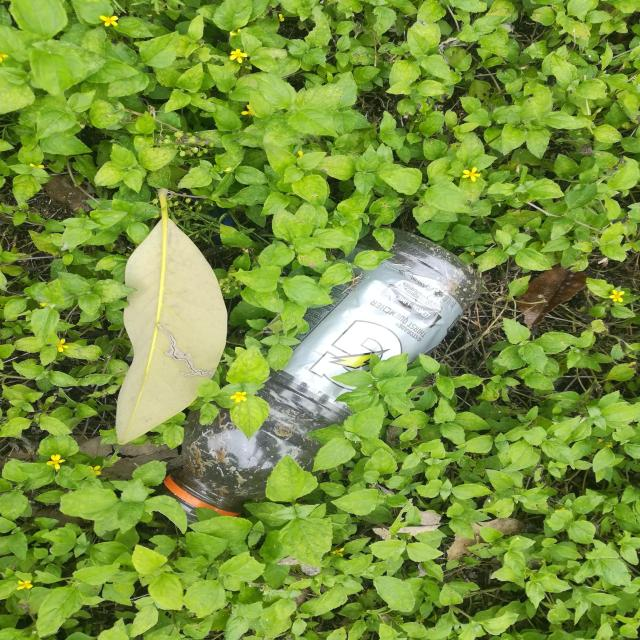litter: (156, 229, 481, 524)
